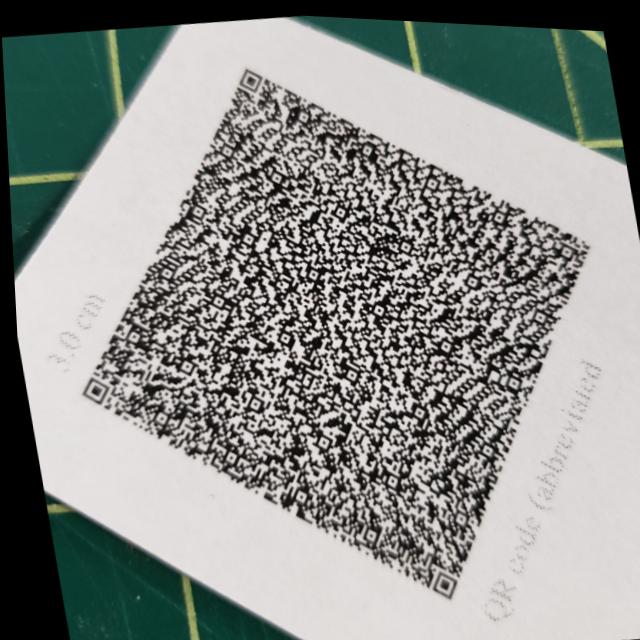QR_CODE: (9, 0, 640, 640)
